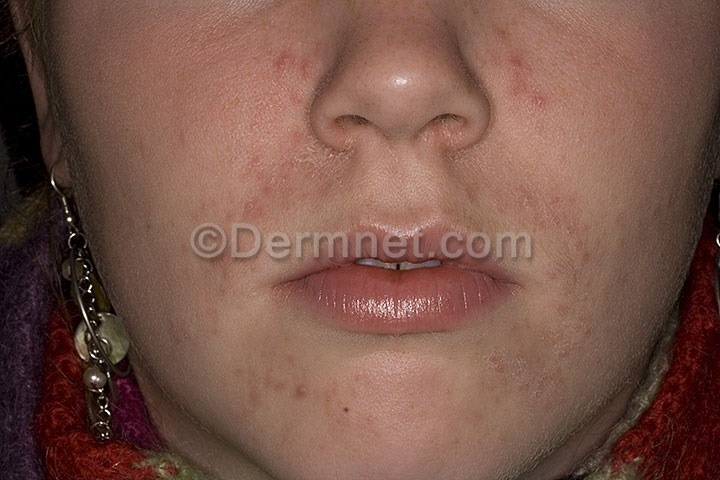Acne: (168, 50, 614, 265)
